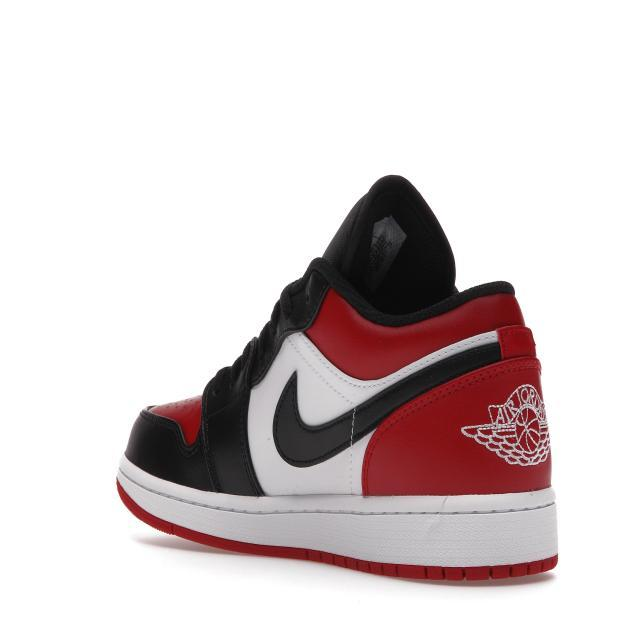J1_InsoleChar: (113, 172, 561, 586)
J1_ShoeLogo: (460, 382, 551, 467)
J1_StitchPattern: (114, 461, 560, 583), (267, 325, 504, 469), (130, 522, 559, 584), (114, 466, 558, 521), (209, 262, 329, 403), (303, 547, 559, 583), (138, 399, 199, 452)
